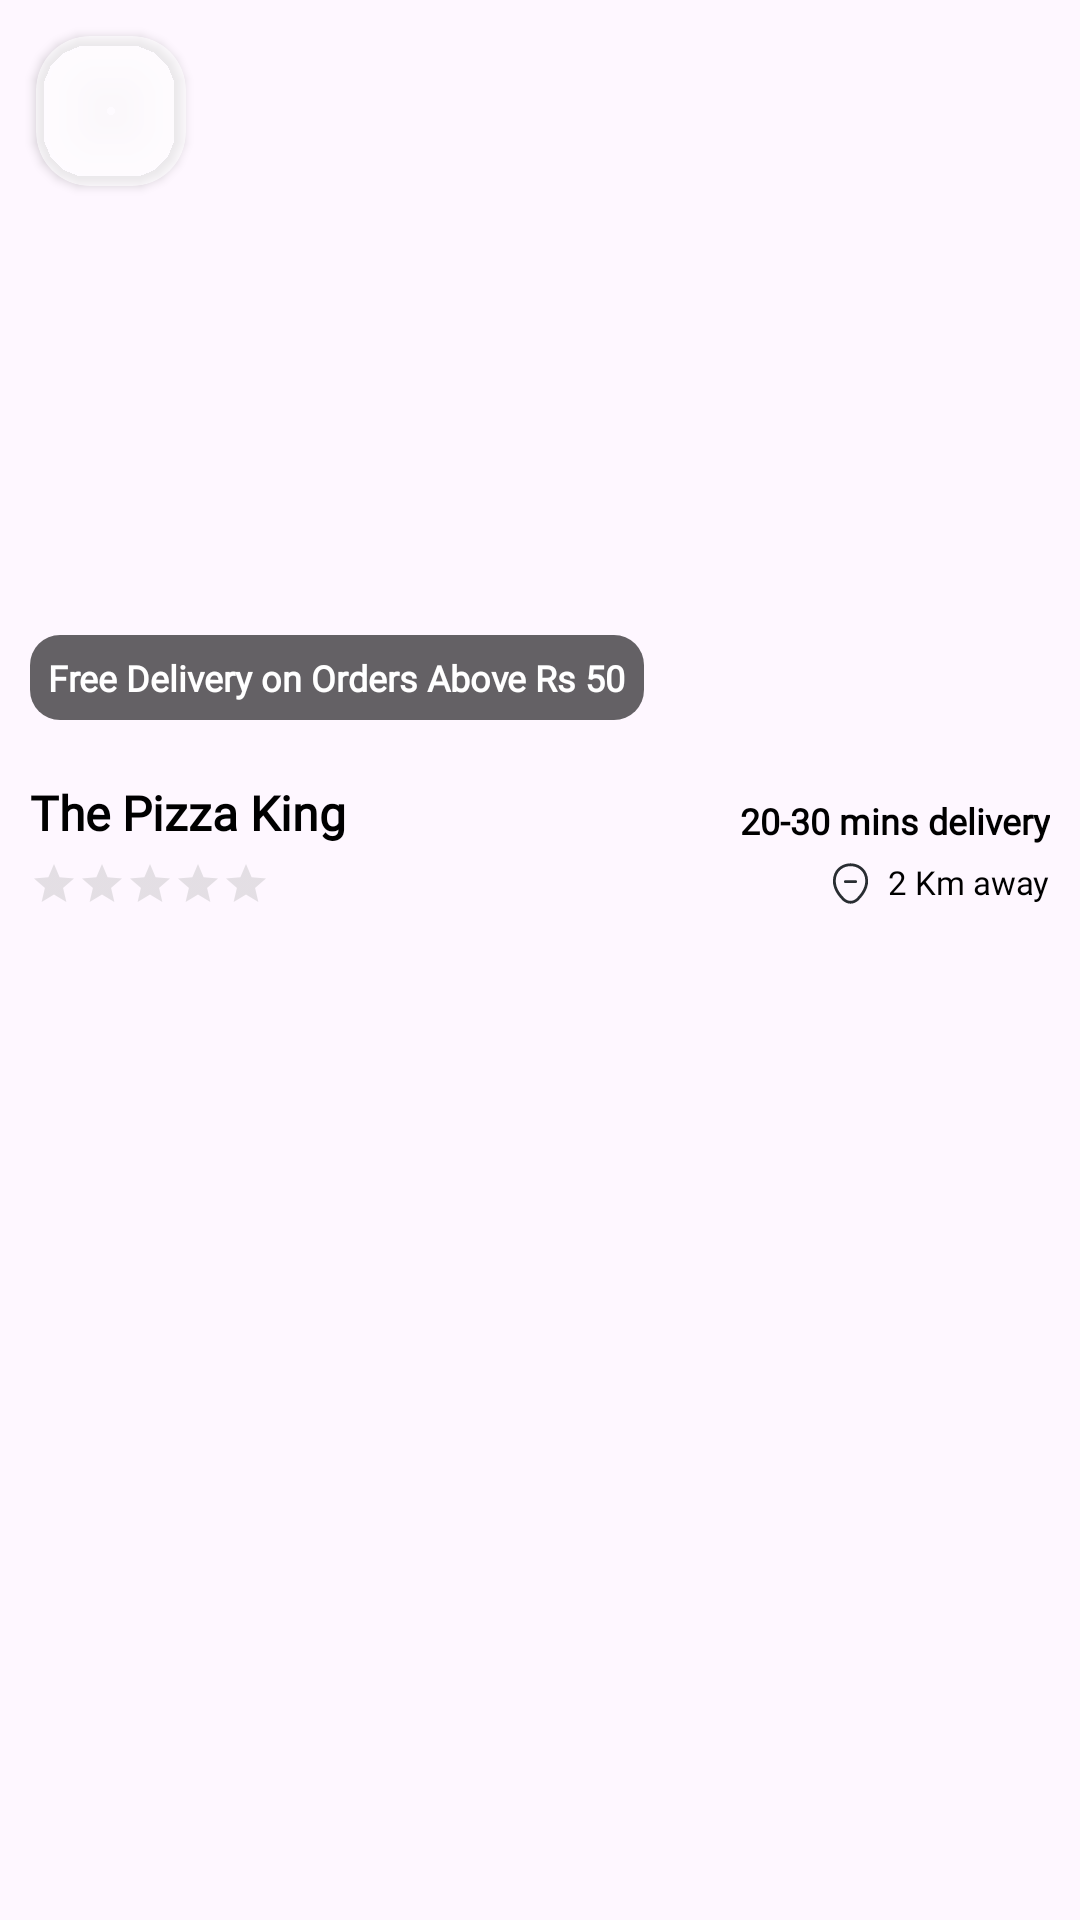

Screen size 1080*1920. Icon name, then its box in pixels as (x1, y1, x2, y2):
location minus: (833, 863, 868, 904)
